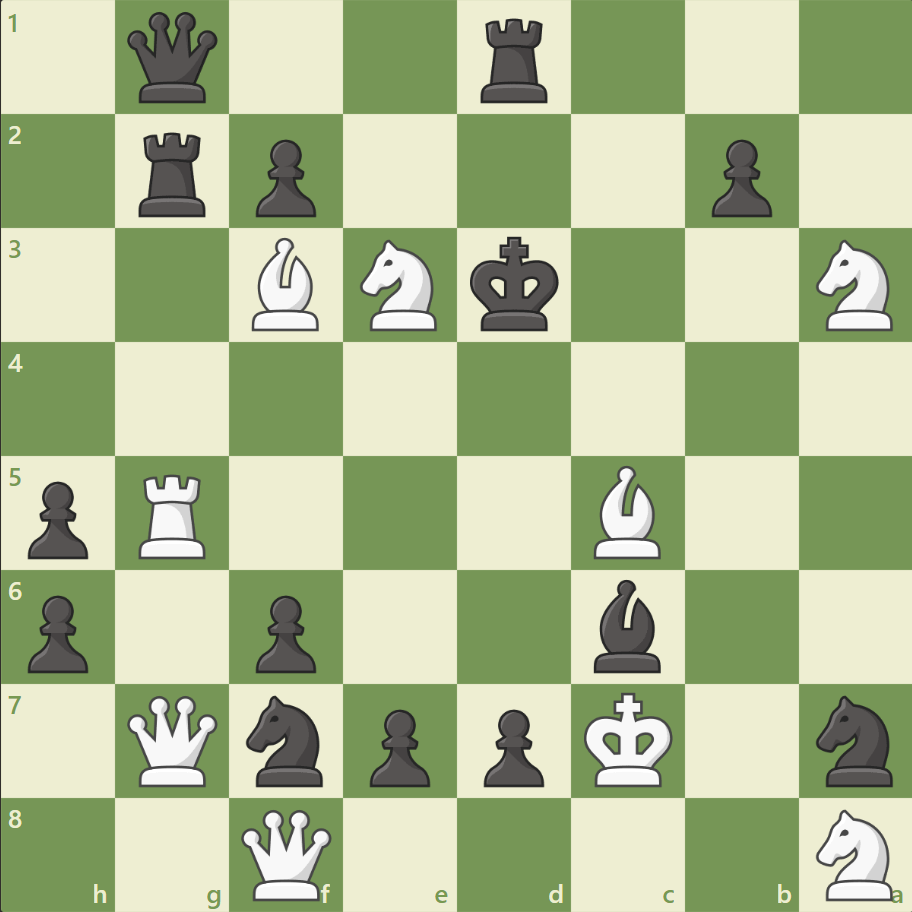B: (585, 460, 669, 563), (244, 233, 328, 336)
K: (579, 685, 679, 793)
N: (351, 234, 449, 337), (806, 234, 903, 337), (806, 802, 903, 904)
Q: (237, 804, 336, 903), (124, 690, 223, 789)
R: (133, 466, 215, 563)
b: (585, 574, 669, 676)
k: (465, 231, 565, 339)
n: (806, 688, 903, 791), (238, 688, 335, 791)
p: (474, 700, 549, 791), (247, 586, 322, 677), (20, 586, 95, 677), (20, 473, 95, 564), (701, 132, 776, 223), (247, 132, 322, 223), (361, 700, 435, 791)
q: (124, 9, 223, 108)
r: (473, 12, 556, 109), (133, 125, 215, 222)
